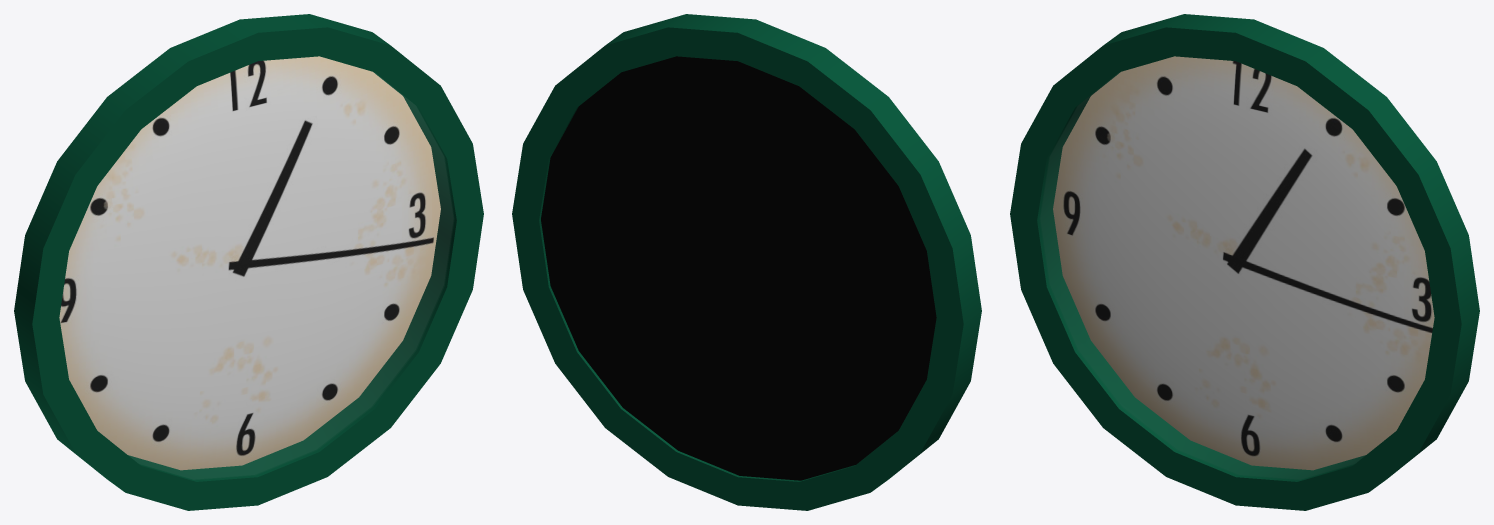
File: Clock.fbx
3 renders of one model, left to right at view 1: azimuth 30°, elevation 25°; view 2: azimuth 150°, elevation 25°; view 3: azimuth 330°, elevation 25°, orthographic.
Parts seen in each view (by area): view 1: Face, Housing1; view 2: Face, Housing1; view 3: Face, Housing1.
Boxes of the visible parts, left/top/right/bottom form: Face: left=59, top=56, right=440, bottom=470; Housing1: left=14, top=14, right=483, bottom=510; Face: left=541, top=56, right=936, bottom=480; Housing1: left=512, top=14, right=981, bottom=510; Face: left=1053, top=56, right=1434, bottom=470; Housing1: left=1010, top=14, right=1479, bottom=510.
Bounding box in the file's own units: 0.5 × 0.5 × 0.051.
3 materials, 1 textured.
